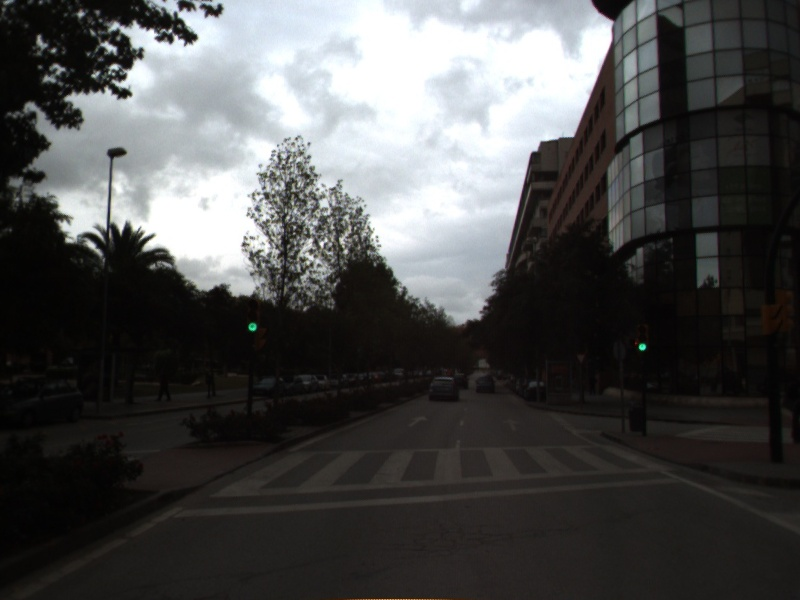STRAIGHT: (406, 414, 431, 428), (501, 417, 523, 432)
